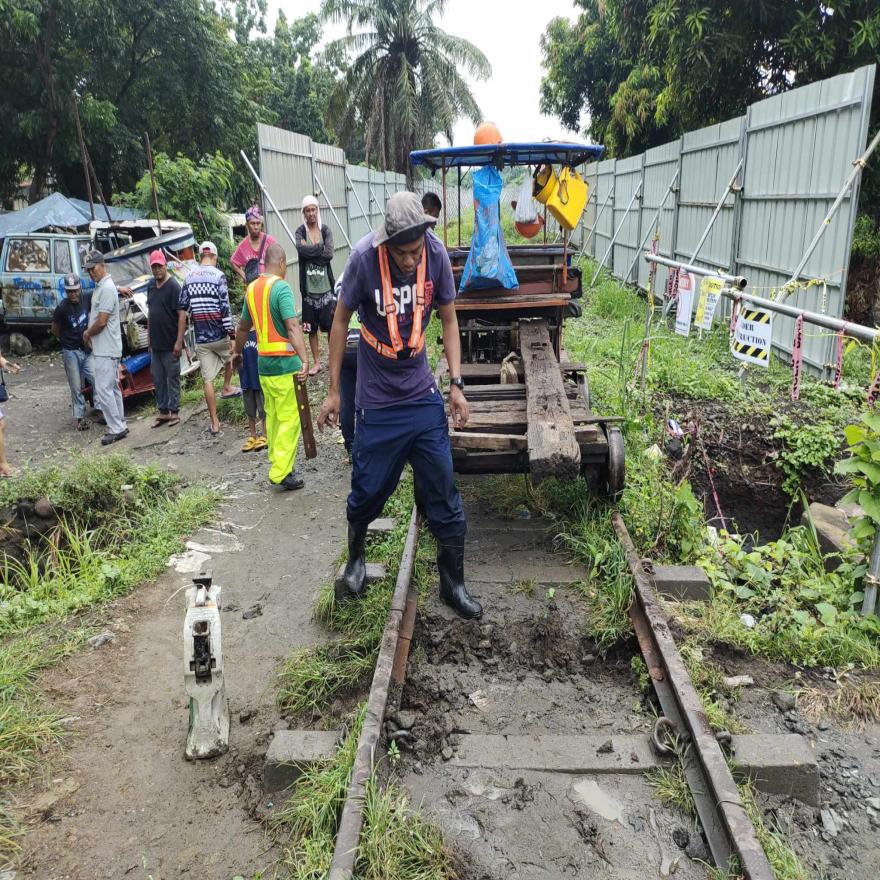railway-gap: (361, 576, 426, 647)
